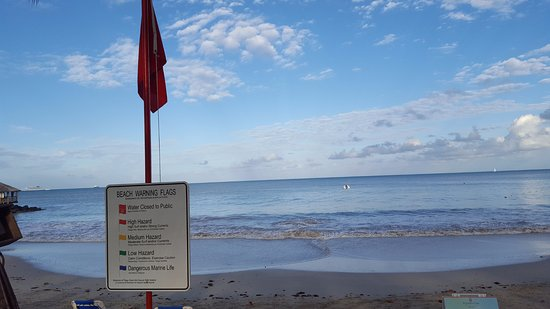Flag: (138, 1, 169, 115)
